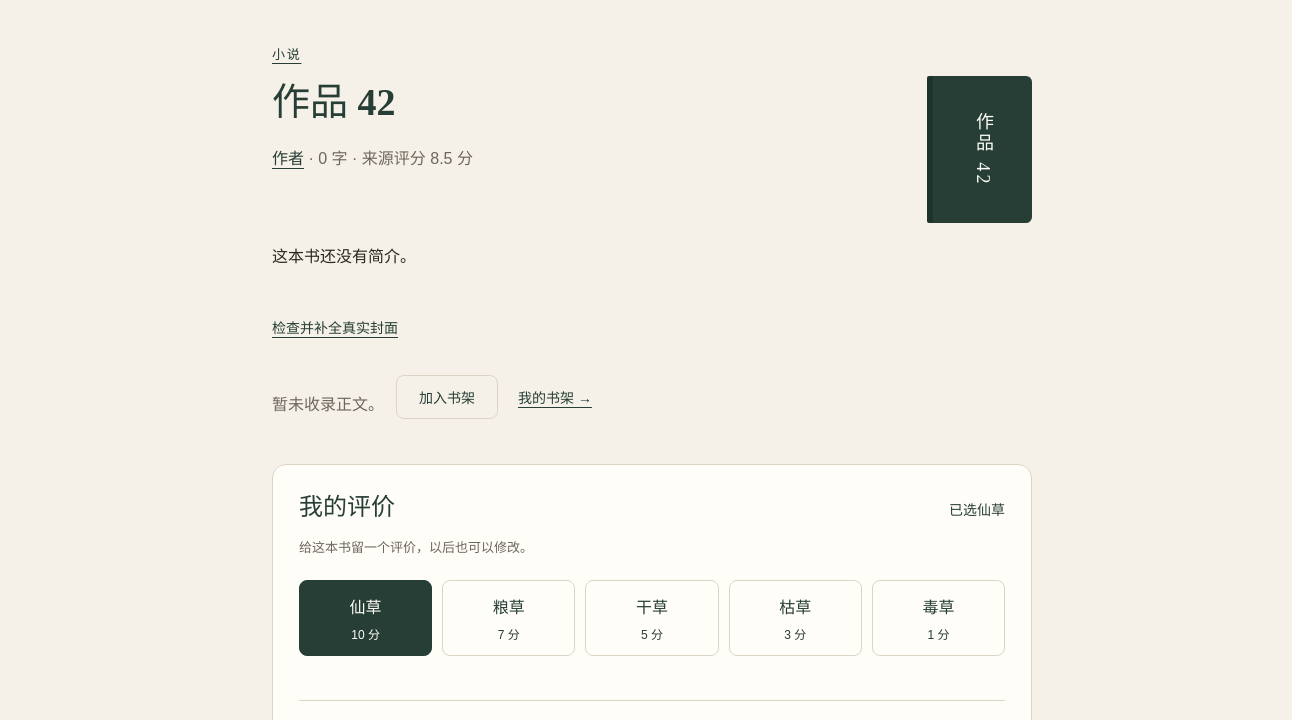
Test case: clears private book and vote data when saving returns 401
The image size is (1292, 720).
Click the button "毒草 1 分" at (938, 618), box [872,580,1005,656]
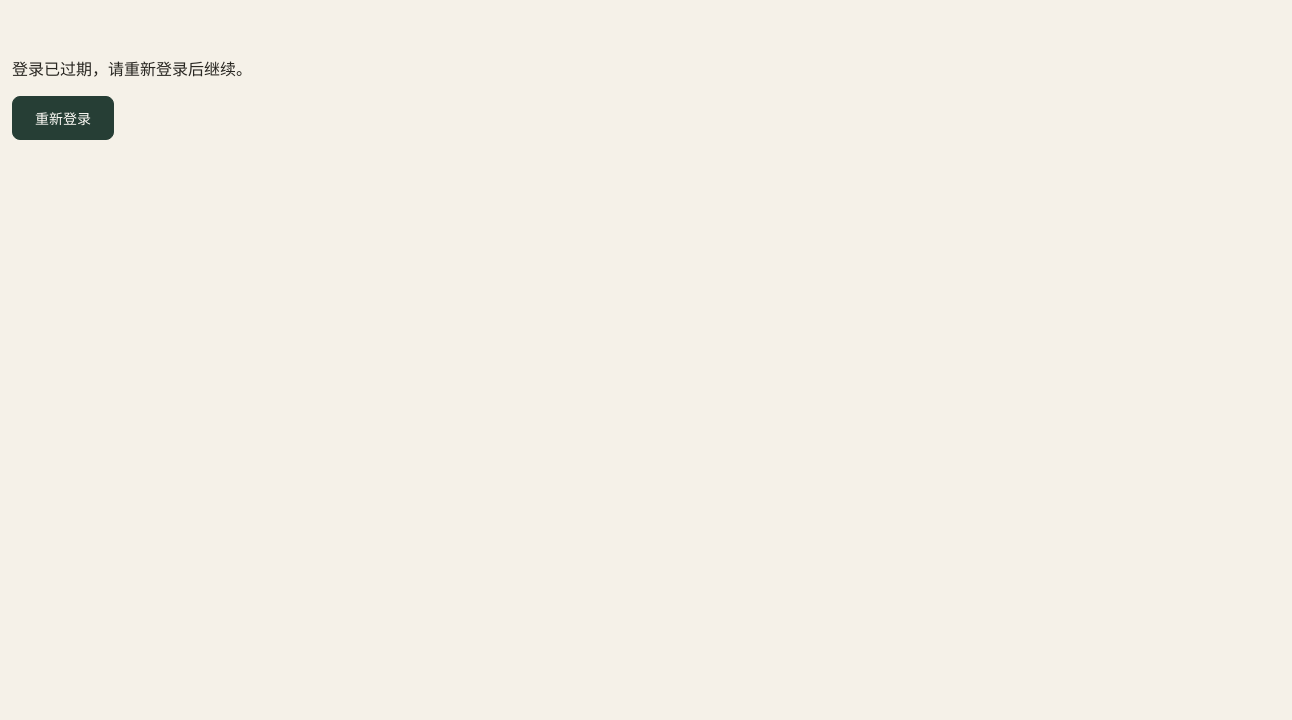
Check: the text "重新登录" is shown, box [12,61,252,78]
Check: the text "作品 42" is gone
Check: the text "已选仙草" is gone
